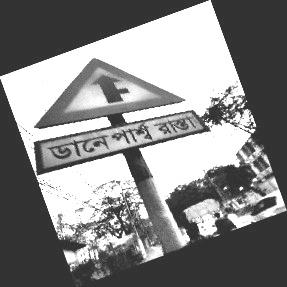Side-road-right: (32, 58, 202, 177)
